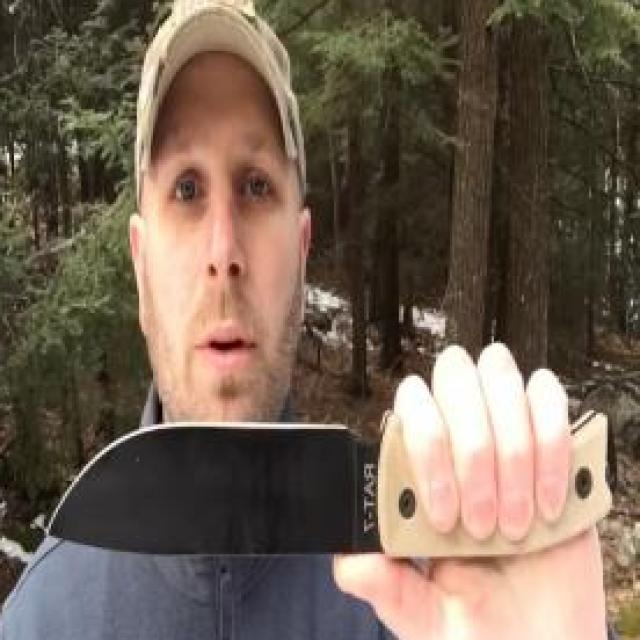knife: (37, 334, 531, 594)
